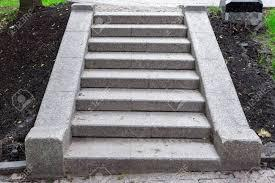Bench: (59, 13, 224, 167)
